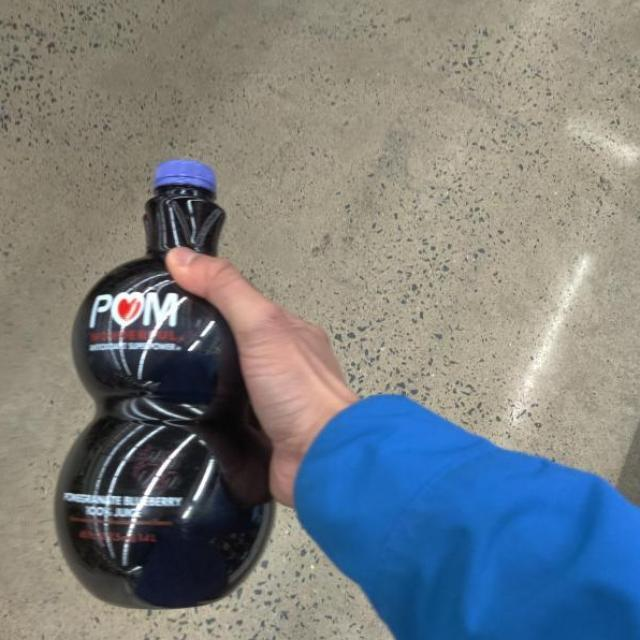Juice: (49, 145, 299, 612)
